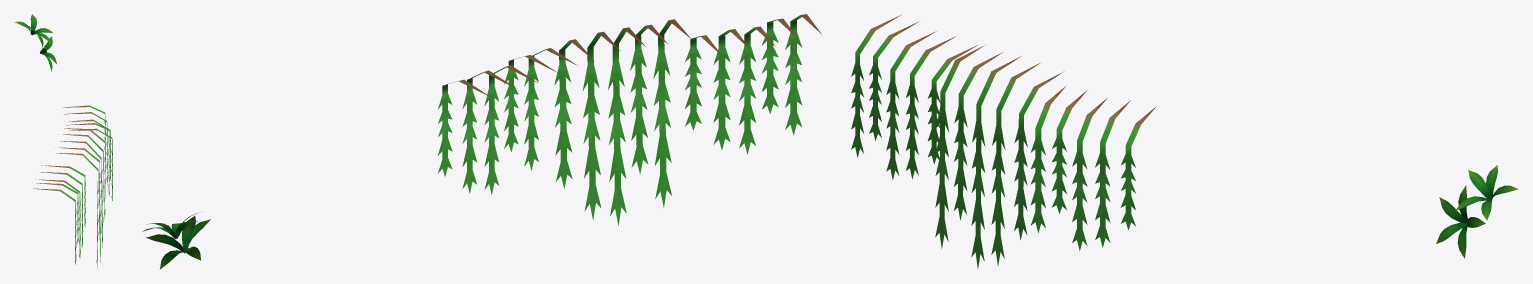
Rendered from Asset_Plants_Cliff_Left.fbx.
The picture shows the model from 3 angles, left to right: view 1: azimuth 30°, elevation 25°; view 2: azimuth 150°, elevation 25°; view 3: azimuth 270°, elevation 25°; orthographic projection. The views are drawn at different scales.
Parts seen in each view (by area): view 1: polySurface582; view 2: polySurface582; view 3: polySurface582.
Boxes of the visible parts, <box> form: polySurface582: <box>14,14,112,267</box>; polySurface582: <box>142,14,821,269</box>; polySurface582: <box>851,14,1518,268</box>.
Size of the model in its own units: 2204 by 1223 by 3872.
